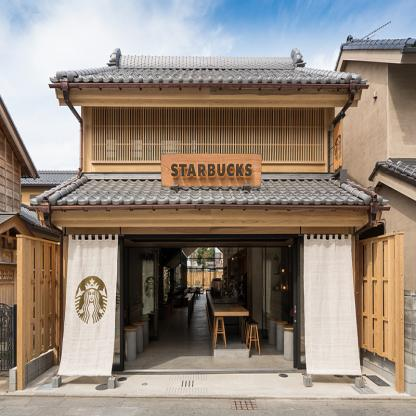Blind: (92, 107, 326, 163)
Building Outline: (28, 48, 391, 371)
Door: (124, 238, 297, 371)
Facade: (81, 88, 335, 371)
Floor Slab: (78, 174, 340, 182)
Ground Floor: (60, 182, 359, 371)
Roof: (29, 174, 389, 206), (49, 48, 368, 84)
Shop: (57, 234, 118, 377), (304, 234, 362, 375), (161, 154, 262, 187), (332, 110, 346, 175)
Top Floor: (81, 88, 335, 174)
Window: (92, 107, 326, 163), (77, 238, 124, 371), (298, 238, 345, 371)
